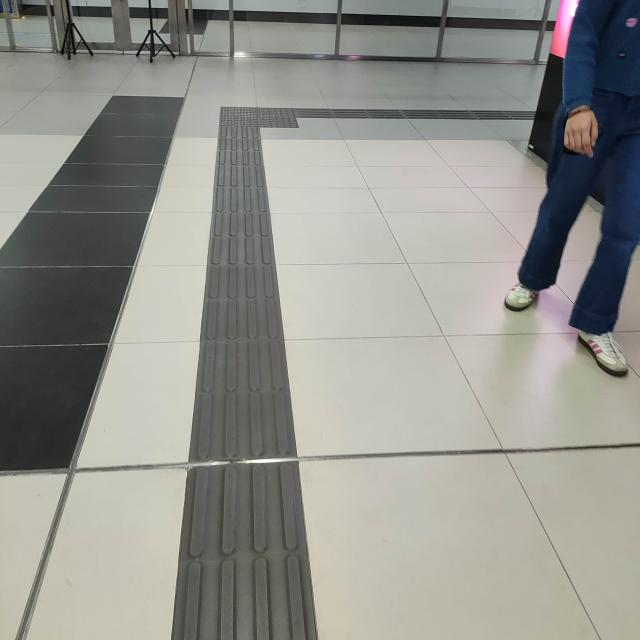kanan: (218, 96, 346, 140)
